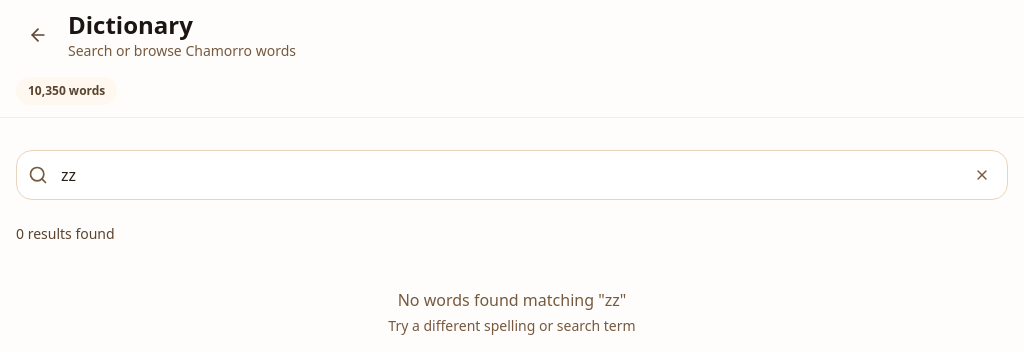
stable vocabulary records › does not announce a new query as empty while its results are still pending
Later steps or results of the test are not shown.
Expected: the text "No words found matching \"zz\"" is shown, [398, 289, 626, 311]
Replace the text in the field named "Search all Chamorro words" with "water" at (512, 175), box [16, 150, 1008, 200]
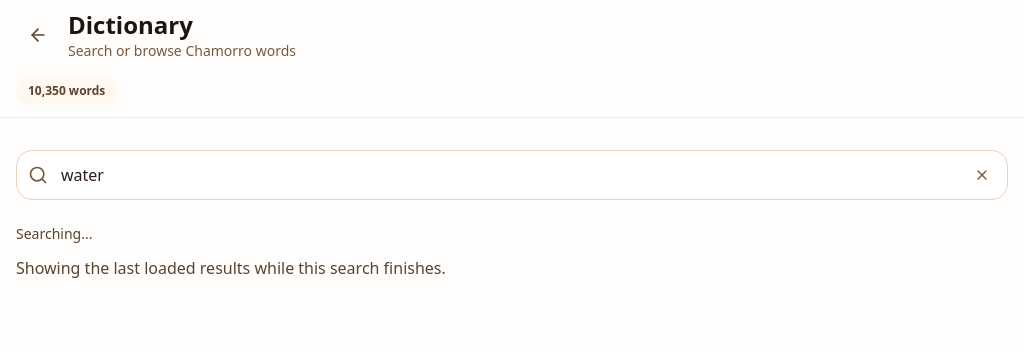
Now the heading "Searching..." is shown, box [16, 224, 92, 243]
Now the text "No words found matching" is gone
